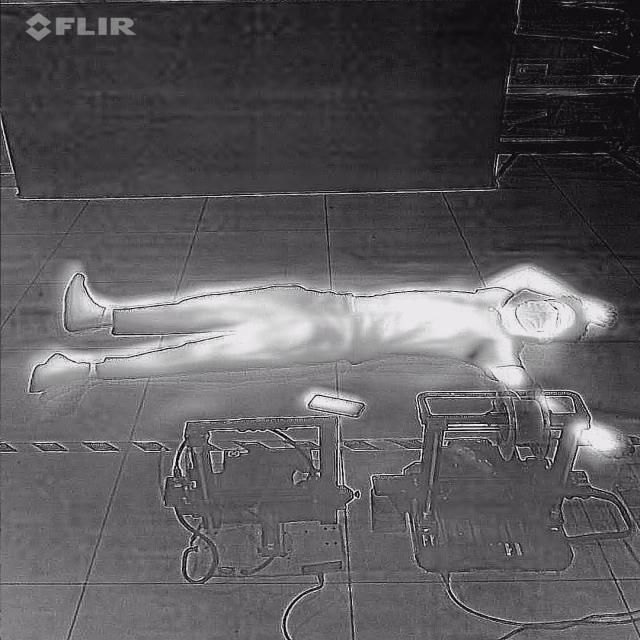Victim: (21, 255, 634, 464)
